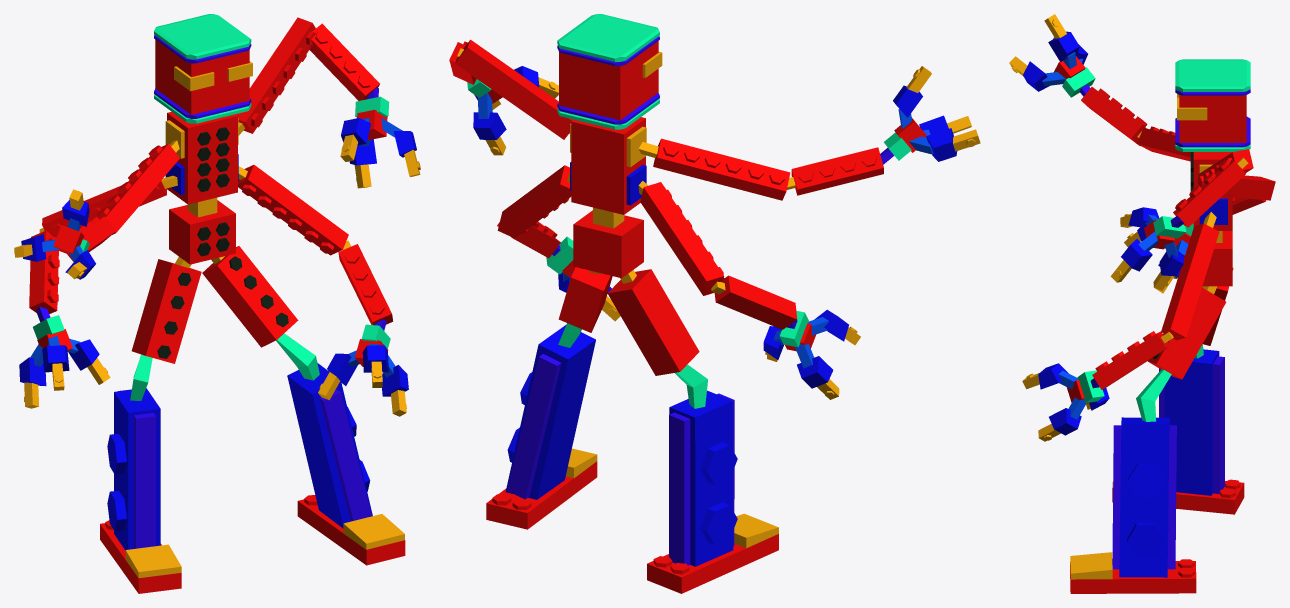
File: Brick_Robot_Characters_3_.fbx
The picture shows the model from 3 angles, left to right: view 1: azimuth 30°, elevation 25°; view 2: azimuth 150°, elevation 25°; view 3: azimuth 270°, elevation 25°; orthographic projection. The views are drawn at different scales.
Visible parts, largest first — view 1: Brick_Robot_Characters_3_001, Brick_Robot_Characters_3_003, Brick_Robot_Characters_3_000, Brick_Robot_Characters_3_006, Brick_Robot_Characters_3_002, Brick_Robot_Characters_3_004, Brick_Robot_Characters_3_018, Brick_Robot_Characters_3_016, Brick_Robot_Characters_3_005, Brick_Robot_Characters_3_017, Brick_Robot_Characters_3_012, Brick_Robot_Characters_3_014 (+7 smaller); view 2: Brick_Robot_Characters_3_003, Brick_Robot_Characters_3_001, Brick_Robot_Characters_3_000, Brick_Robot_Characters_3_006, Brick_Robot_Characters_3_004, Brick_Robot_Characters_3_010, Brick_Robot_Characters_3_005, Brick_Robot_Characters_3_007, Brick_Robot_Characters_3_014, Brick_Robot_Characters_3_008, Brick_Robot_Characters_3_018, Brick_Robot_Characters_3_011 (+6 smaller); view 3: Brick_Robot_Characters_3_001, Brick_Robot_Characters_3_003, Brick_Robot_Characters_3_000, Brick_Robot_Characters_3_016, Brick_Robot_Characters_3_012, Brick_Robot_Characters_3_007, Brick_Robot_Characters_3_017, Brick_Robot_Characters_3_002, Brick_Robot_Characters_3_015, Brick_Robot_Characters_3_013, Brick_Robot_Characters_3_006, Brick_Robot_Characters_3_011 (+5 smaller).
Boxes of the visible parts, box(x1,y1,x2,y2) form: Brick_Robot_Characters_3_001: box(276, 333, 405, 565); Brick_Robot_Characters_3_003: box(100, 354, 181, 593); Brick_Robot_Characters_3_000: box(154, 14, 252, 123); Brick_Robot_Characters_3_006: box(165, 111, 238, 204); Brick_Robot_Characters_3_002: box(202, 246, 298, 347); Brick_Robot_Characters_3_004: box(131, 257, 201, 363); Brick_Robot_Characters_3_018: box(19, 307, 110, 408); Brick_Robot_Characters_3_016: box(340, 87, 420, 188); Brick_Robot_Characters_3_005: box(169, 197, 235, 264); Brick_Robot_Characters_3_017: box(318, 319, 408, 416); Brick_Robot_Characters_3_012: box(238, 165, 348, 255); Brick_Robot_Characters_3_014: box(236, 17, 316, 135); Brick_Robot_Characters_3_003: box(647, 364, 778, 593); Brick_Robot_Characters_3_001: box(486, 323, 597, 529); Brick_Robot_Characters_3_000: box(557, 14, 662, 129); Brick_Robot_Characters_3_006: box(570, 117, 646, 214); Brick_Robot_Characters_3_004: box(607, 269, 699, 375); Brick_Robot_Characters_3_010: box(638, 138, 790, 200); Brick_Robot_Characters_3_005: box(573, 207, 643, 278); Brick_Robot_Characters_3_007: box(880, 66, 980, 164); Brick_Robot_Characters_3_014: box(455, 39, 573, 139); Brick_Robot_Characters_3_008: box(638, 181, 724, 295); Brick_Robot_Characters_3_018: box(763, 309, 860, 399); Brick_Robot_Characters_3_011: box(787, 147, 883, 195); Brick_Robot_Characters_3_001: box(1070, 369, 1196, 593); Brick_Robot_Characters_3_003: box(1112, 344, 1244, 514); Brick_Robot_Characters_3_000: box(1175, 59, 1250, 151); Brick_Robot_Characters_3_016: box(1110, 207, 1186, 290); Brick_Robot_Characters_3_012: box(1161, 212, 1219, 340); Brick_Robot_Characters_3_007: box(1009, 14, 1095, 97); Brick_Robot_Characters_3_017: box(1022, 363, 1109, 441); Brick_Robot_Characters_3_002: box(1147, 286, 1226, 379); Brick_Robot_Characters_3_015: box(1173, 157, 1248, 227); Brick_Robot_Characters_3_013: box(1092, 331, 1173, 389); Brick_Robot_Characters_3_006: box(1190, 152, 1232, 230); Brick_Robot_Characters_3_011: box(1081, 87, 1147, 145).
Size of the model in its own units: 478 by 513 by 268.
